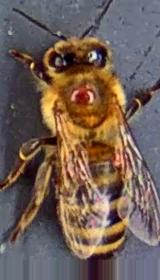varroa_mite: (59, 85, 101, 115)
